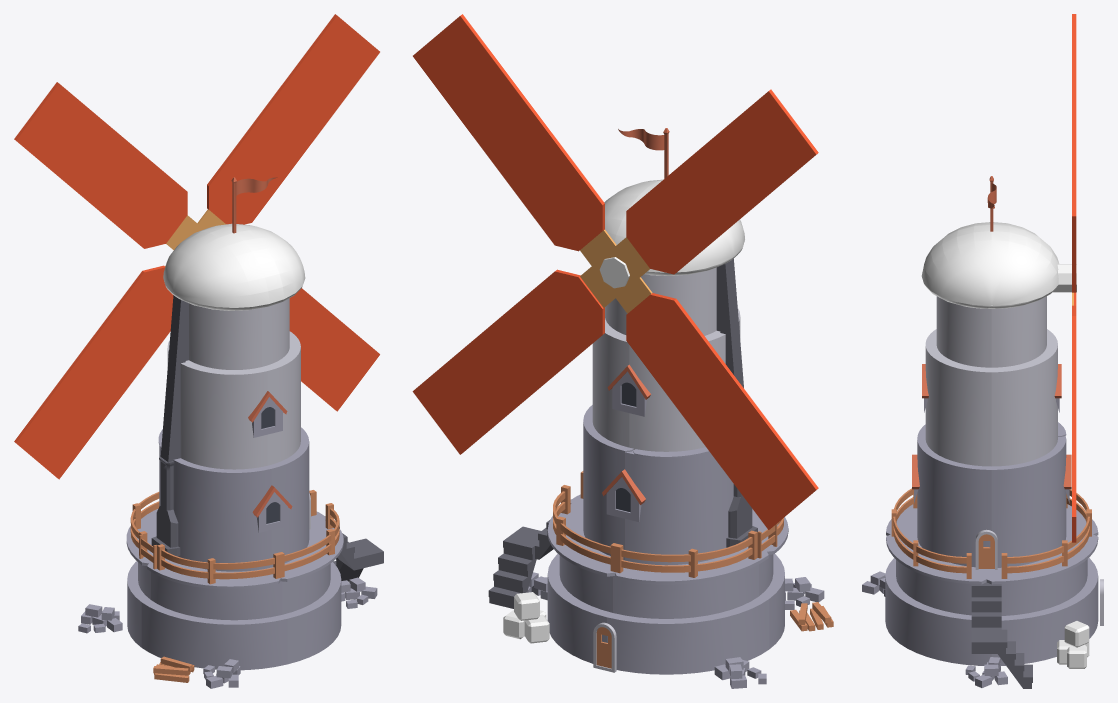
The model's file is mill.model.fbx.
3 renders of one model, left to right at view 1: azimuth 30°, elevation 25°; view 2: azimuth 150°, elevation 25°; view 3: azimuth 270°, elevation 25°, orthographic. The views are drawn at different scales.
Visible parts, largest first — view 1: building_windmill_wings_88, sphere_dome_22, wall_cornerRound%_55, wall_borderCornerRound%_60, wall_cornerRound%_42, wall_borderCornerRound%_65, wall_cornerRound%_44, wall_cornerRound%_40, wall_borderCornerRound%_61, wall_cornerRound%_56, wall_edge_103, fence_woodRound%_50 (+17 smaller); view 2: building_windmill_wings_88, wall_cornerRound%_54, wall_cornerRound%_41, wall_cornerRound%_43, wall_borderCornerRound%_59, wall_cornerRound%_16, wall_borderCornerRound%_18, wall_cornerRound%_31, stairs_cornerStone%_69, sphere_dome_22, wall_borderCornerRound%_64, fence_woodRound%_49 (+16 smaller); view 3: sphere_dome_22, wall_borderCornerRound%_18, wall_cornerRound%_16, wall_borderCornerRound%_61, wall_cornerRound%_56, wall_cornerRound%_40, wall_cornerRound%_31, wall_borderCornerRound%_21, wall_borderCornerRound%_66, stairs_cornerStone%_69, wall_cornerRound%_11, building_windmill_wings_88 (+17 smaller).
Boxes of the visible parts, box(x1,y1,x2,y2) form: building_windmill_wings_88: box(14, 14, 379, 479); sphere_dome_22: box(163, 223, 305, 307); wall_cornerRound%_55: box(173, 461, 271, 571); wall_borderCornerRound%_60: box(180, 360, 267, 469); wall_cornerRound%_42: box(141, 598, 287, 670); wall_borderCornerRound%_65: box(189, 303, 261, 369); wall_cornerRound%_44: box(151, 572, 282, 620); wall_cornerRound%_40: box(279, 562, 341, 664); wall_borderCornerRound%_61: box(262, 333, 300, 465); wall_cornerRound%_56: box(271, 443, 309, 567); wall_edge_103: box(160, 295, 185, 462); fence_woodRound%_50: box(157, 544, 284, 584); building_windmill_wings_88: box(412, 14, 818, 529); wall_cornerRound%_54: box(625, 450, 733, 565); wall_cornerRound%_41: box(607, 595, 769, 674); wall_cornerRound%_43: box(613, 564, 758, 618); wall_borderCornerRound%_59: box(629, 330, 725, 451); wall_cornerRound%_16: box(583, 423, 624, 560); wall_borderCornerRound%_18: box(592, 318, 629, 447); wall_cornerRound%_31: box(547, 554, 616, 663); stairs_cornerStone%_69: box(488, 519, 553, 608); sphere_dome_22: box(604, 179, 744, 272); wall_borderCornerRound%_64: box(641, 267, 716, 335); fence_woodRound%_49: box(610, 530, 757, 577); sphere_dome_22: box(921, 222, 1059, 305); wall_borderCornerRound%_18: box(988, 342, 1057, 466); wall_cornerRound%_16: box(991, 441, 1066, 567); wall_borderCornerRound%_61: box(925, 344, 991, 466); wall_cornerRound%_56: box(917, 441, 991, 567); wall_cornerRound%_40: box(885, 575, 991, 665); wall_cornerRound%_31: box(991, 575, 1098, 665); wall_borderCornerRound%_21: box(991, 296, 1046, 367); wall_borderCornerRound%_66: box(936, 296, 991, 367); stairs_cornerStone%_69: box(971, 582, 1032, 688); wall_cornerRound%_11: box(1001, 559, 1087, 615); building_windmill_wings_88: box(1072, 14, 1076, 542).
Bounding box in the file's own units: 41.74 × 59.69 × 24.13.
